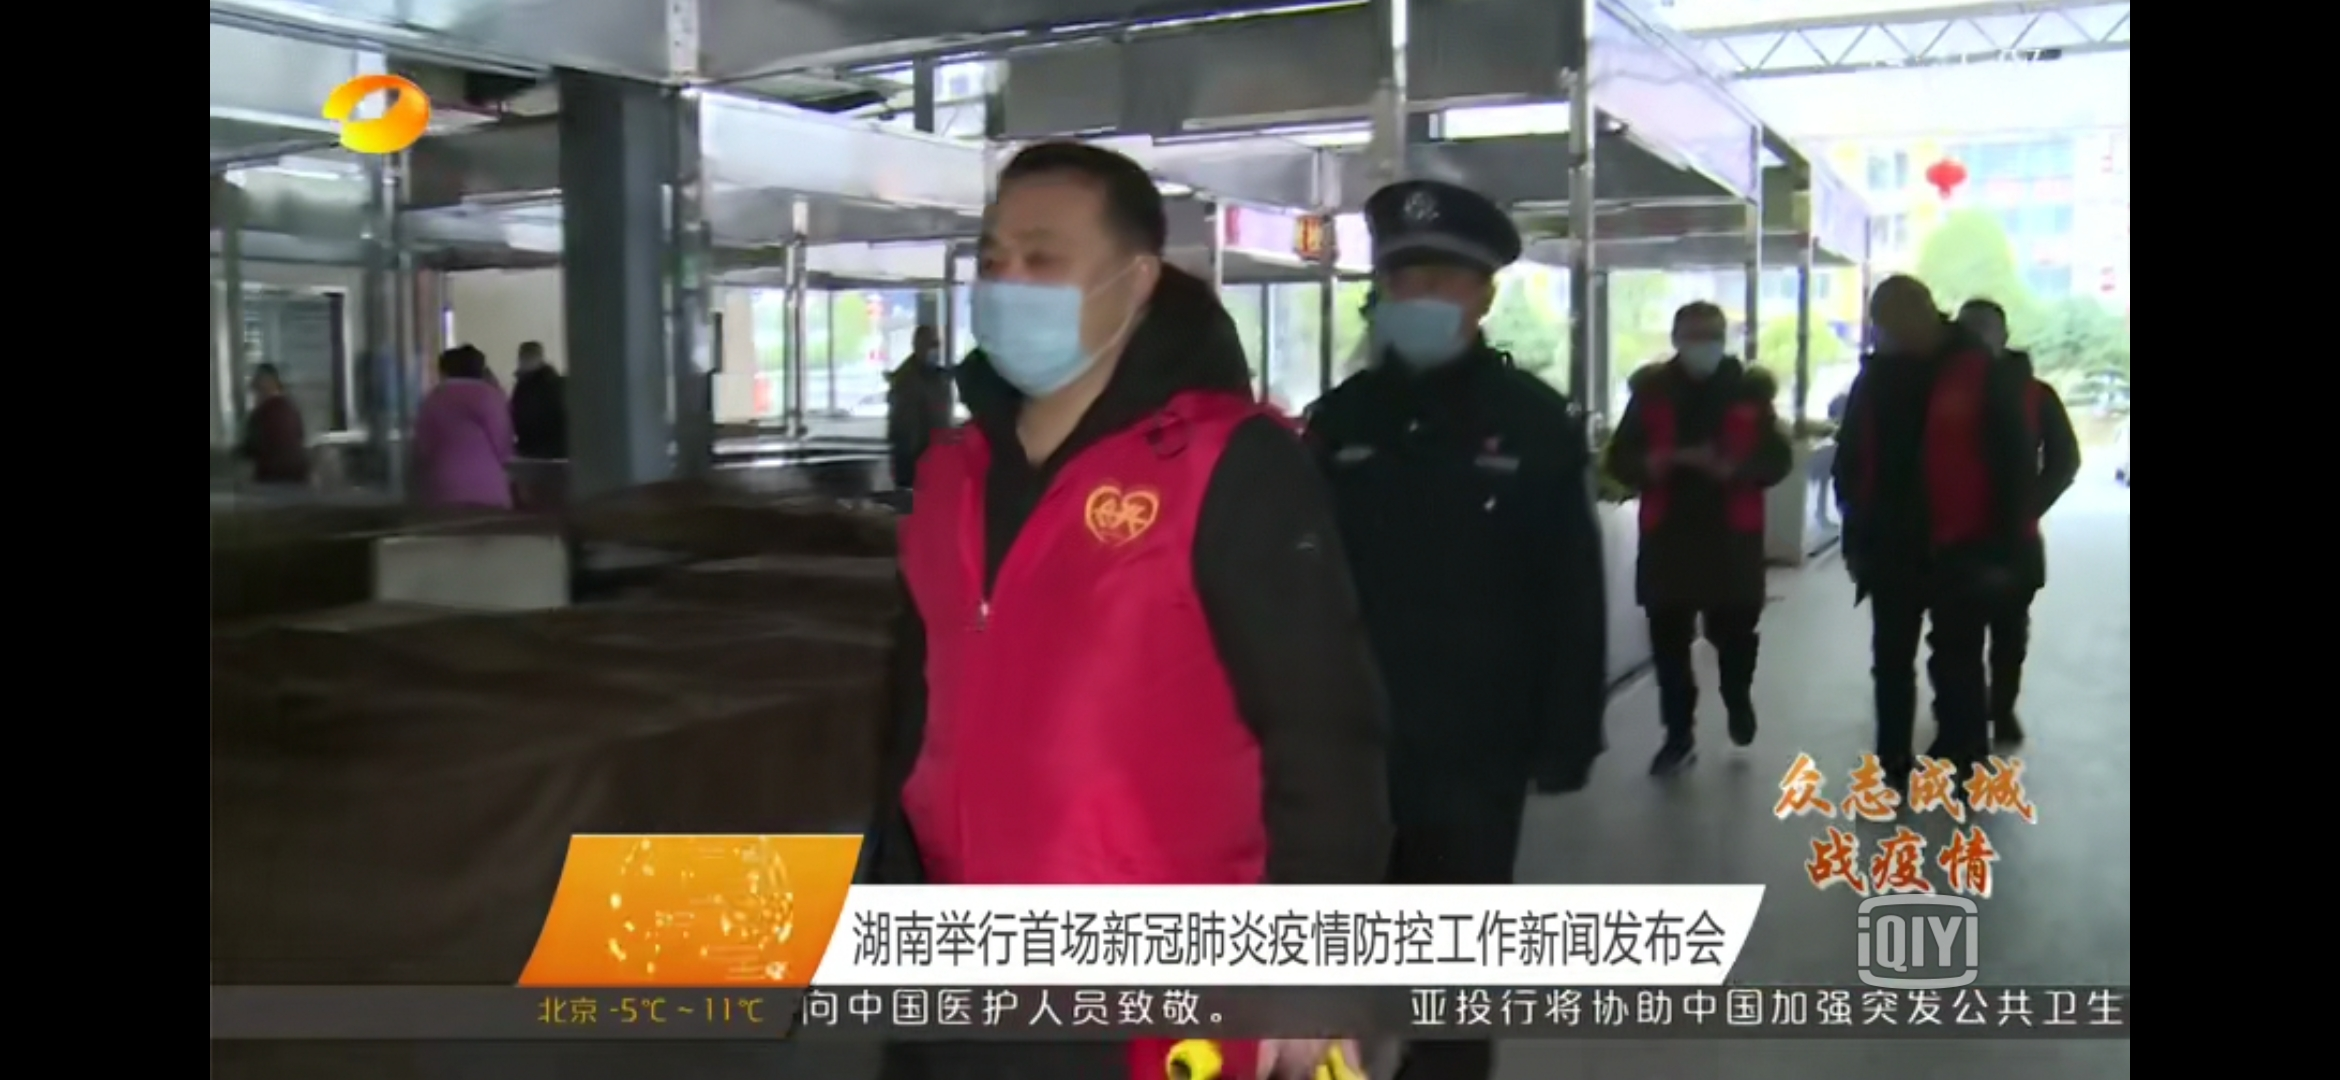correctlyWear: (969, 216, 1163, 400), (1368, 263, 1492, 371), (1670, 321, 1730, 377)
